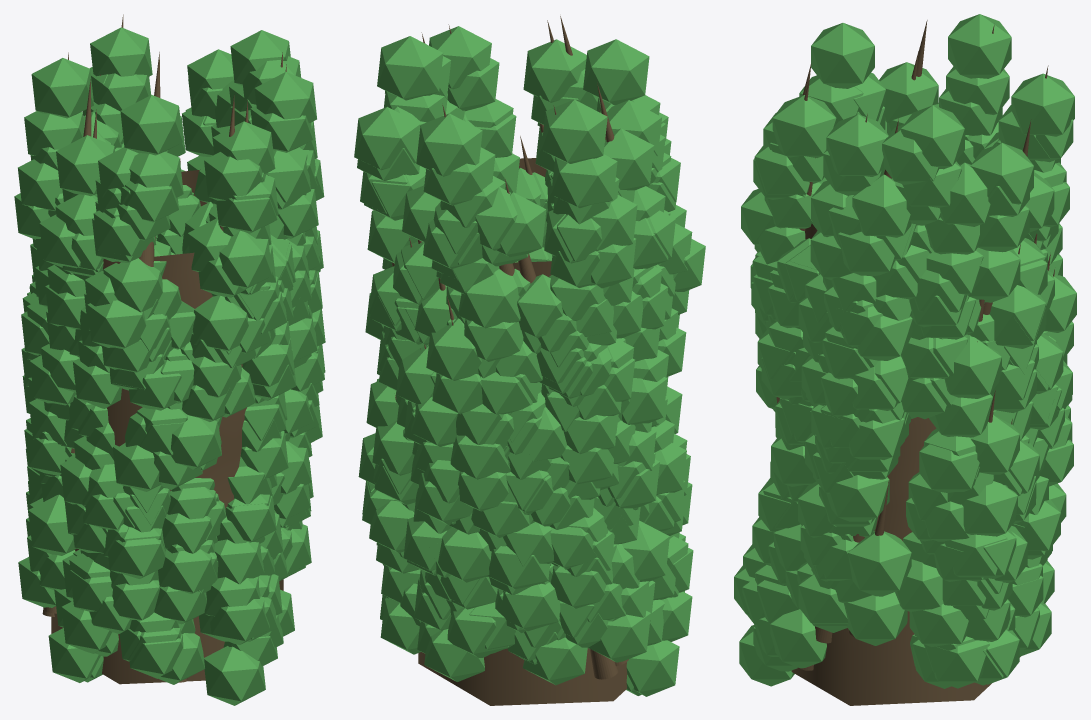
File: tree_var_3041.glb
The picture shows the model from 3 angles, left to right: view 1: azimuth 30°, elevation 25°; view 2: azimuth 150°, elevation 25°; view 3: azimuth 270°, elevation 25°; orthographic projection. The views are drawn at different scales.
Visible parts, largest first — view 1: tree_var_3041; view 2: tree_var_3041; view 3: tree_var_3041.
Part boxes in pixels (<box>): tree_var_3041: <box>14,14,325,705</box>; tree_var_3041: <box>354,16,705,705</box>; tree_var_3041: <box>734,14,1076,705</box>.
Size of the model in its own units: 2.63 by 5.66 by 2.76.
